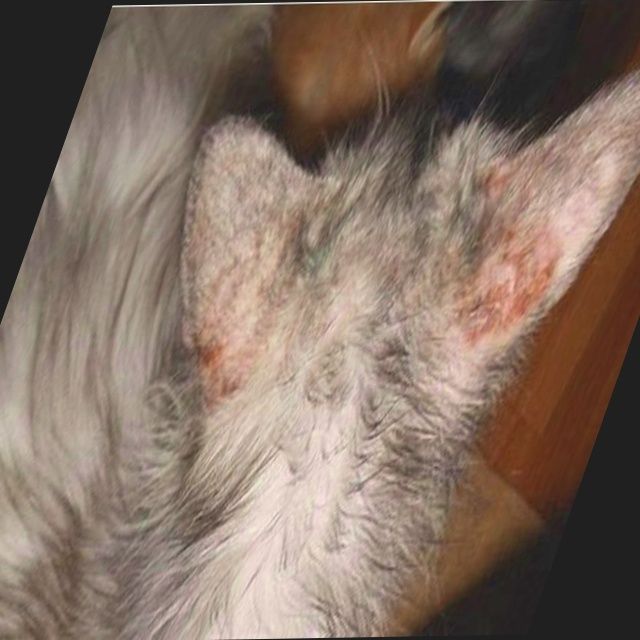ringworm: (425, 190, 595, 335), (152, 286, 276, 417)
